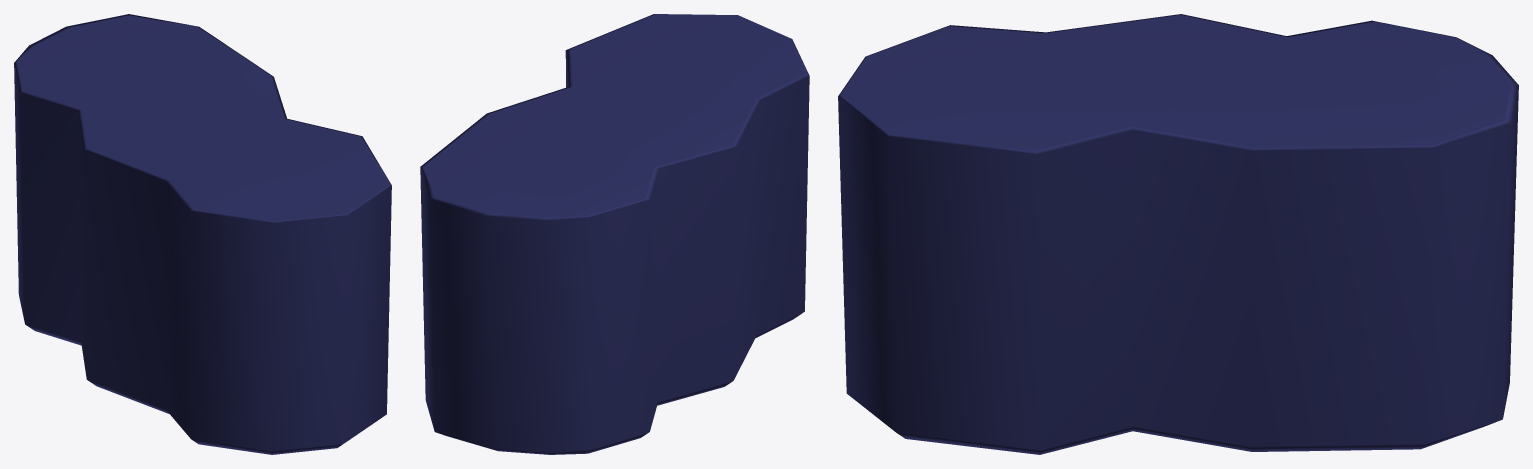
File: platform3.fbx
The picture shows the model from 3 angles, left to right: view 1: azimuth 30°, elevation 25°; view 2: azimuth 150°, elevation 25°; view 3: azimuth 270°, elevation 25°; orthographic projection. The views are drawn at different scales.
Visible parts, largest first — view 1: platform3; view 2: platform3; view 3: platform3.
Part boxes in pixels (x1,y1,x2,y2): platform3: (14, 14, 391, 454); platform3: (420, 14, 809, 454); platform3: (838, 14, 1518, 454).
Bounding box in the file's own units: 386 × 397 × 791.
